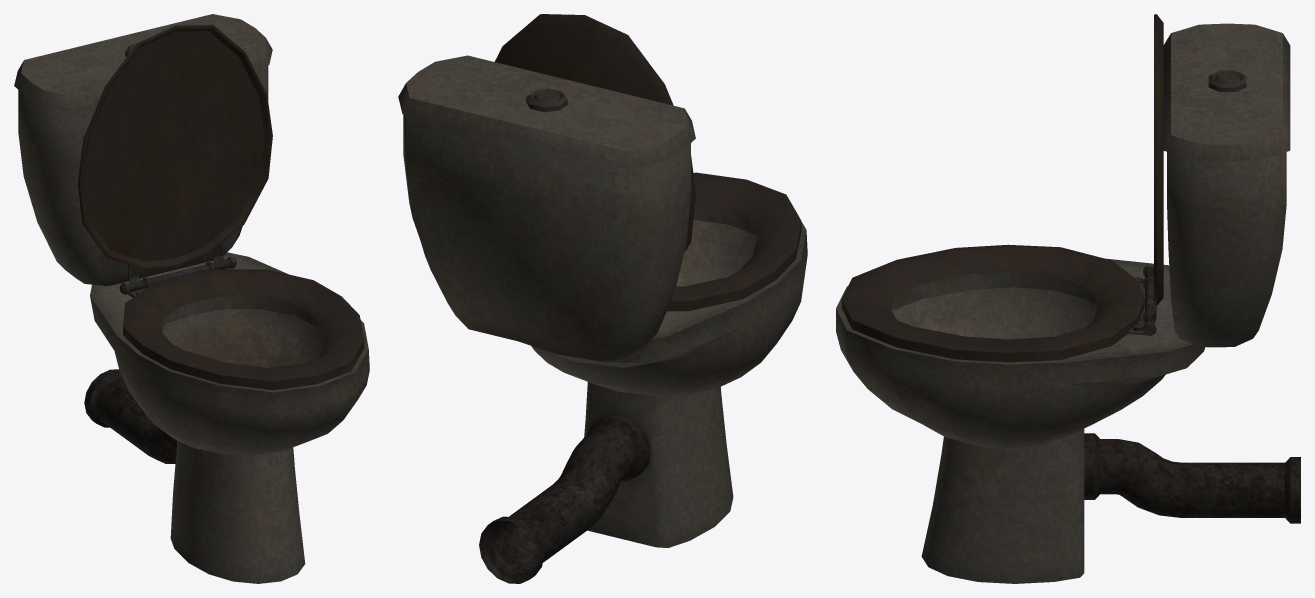
Rendered from toilet_mp_1_1.glb.
The picture shows the model from 3 angles, left to right: view 1: azimuth 30°, elevation 25°; view 2: azimuth 150°, elevation 25°; view 3: azimuth 270°, elevation 25°; orthographic projection. The views are drawn at different scales.
Visible parts, largest first — view 1: toilet_mp_1_1, toilet_mp_1_1_lid; view 2: toilet_mp_1_1, toilet_mp_1_1_lid; view 3: toilet_mp_1_1, toilet_mp_1_1_lid.
Part boxes in pixels (x1=…): toilet_mp_1_1: x1=14, y1=14, x2=369, y2=583; toilet_mp_1_1_lid: x1=77, y1=24, x2=272, y2=294; toilet_mp_1_1: x1=398, y1=55, x2=807, y2=583; toilet_mp_1_1_lid: x1=494, y1=14, x2=695, y2=251; toilet_mp_1_1: x1=836, y1=23, x2=1300, y2=583; toilet_mp_1_1_lid: x1=1143, y1=14, x2=1163, y2=336.
Size of the model in its own units: 0.5728 by 1.11 by 0.8822.
Materials: 3 (3 with a texture image).
